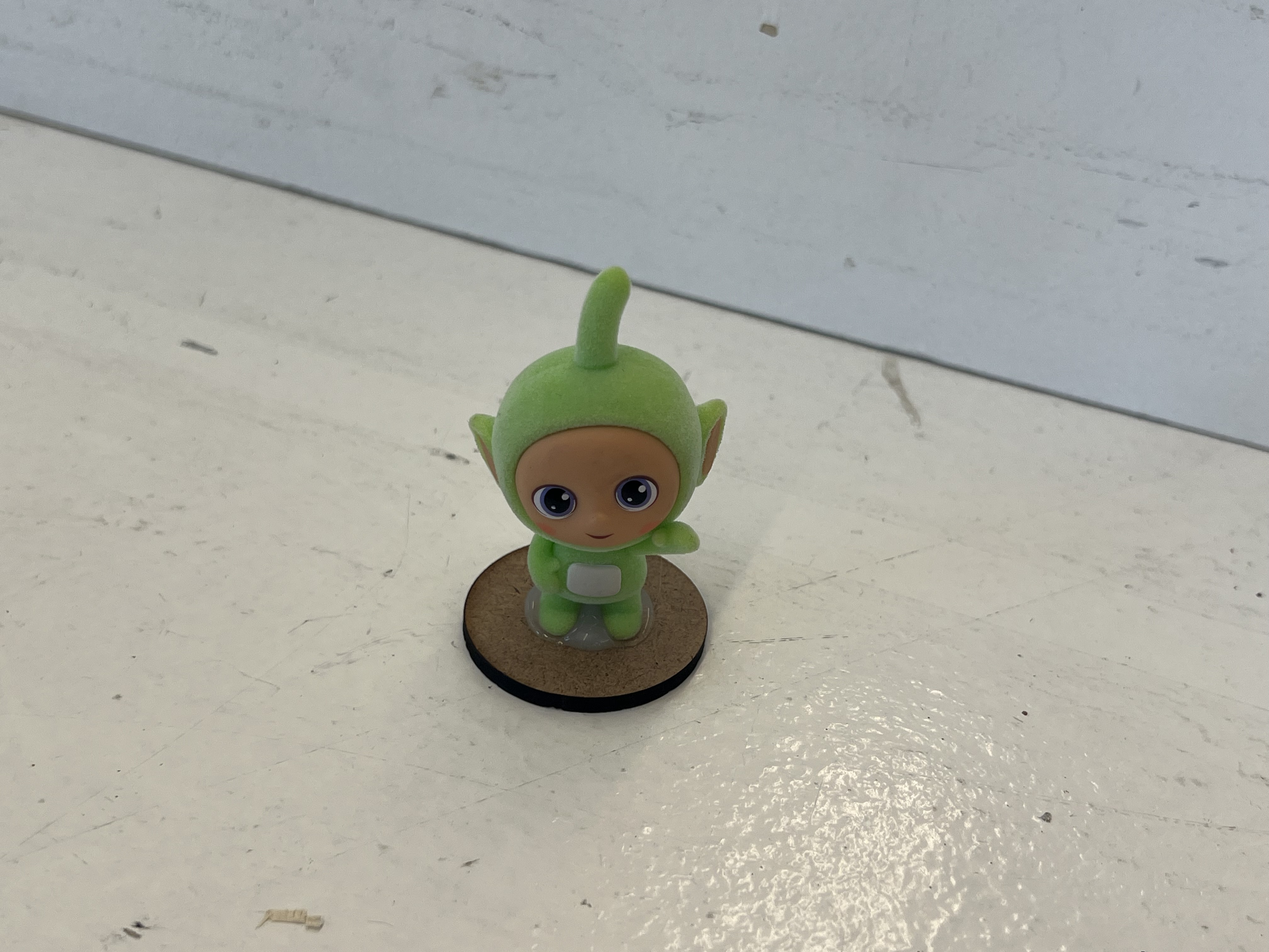teletubby: (469, 267, 726, 641)
